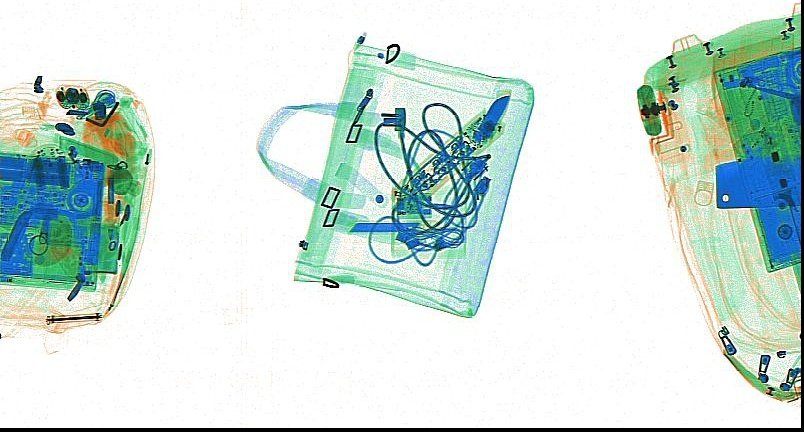knife: (714, 156, 799, 208), (476, 89, 510, 138), (1, 210, 31, 262), (347, 221, 429, 233)
